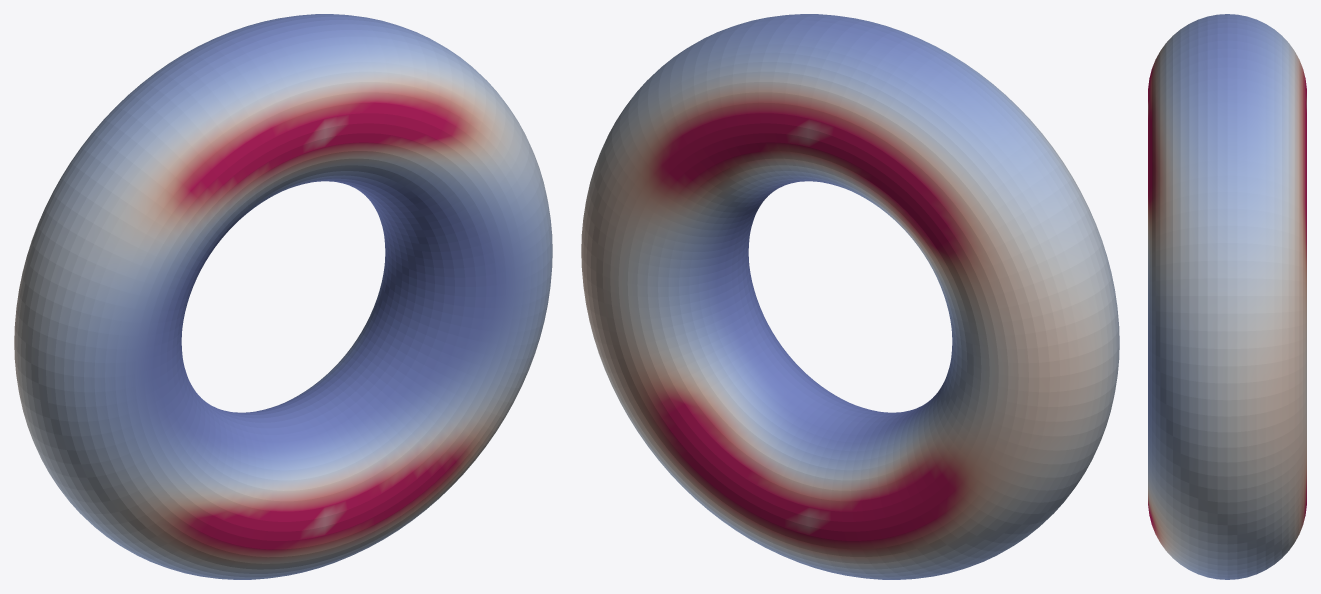
3 views of the same model, side by side, from view 1: azimuth 30°, elevation 25°; view 2: azimuth 150°, elevation 25°; view 3: azimuth 270°, elevation 25° (orthographic). The views are drawn at different scales.
Visible parts, largest first — view 1: world; view 2: world; view 3: world.
Boxes of the visible parts, x1,y1,x2,y2 form: world: (14, 14, 552, 579); world: (581, 14, 1119, 579); world: (1148, 14, 1306, 579).
Bounding box in the file's own units: 20.4 × 20.4 × 5.72.
